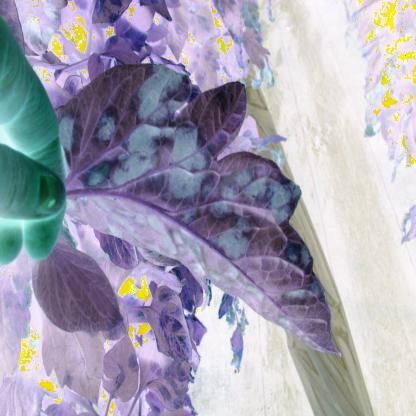Tomato mold leaf: (57, 55, 360, 386)
